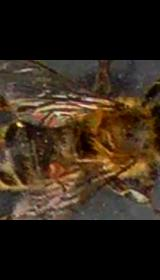varroa_mite: (43, 154, 69, 180)
